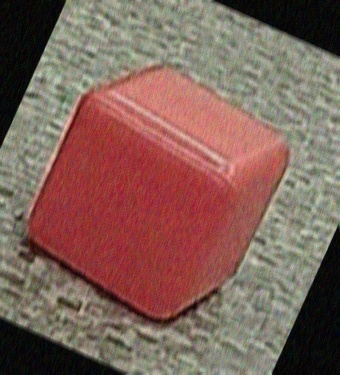orange_cube: (20, 51, 288, 334)
